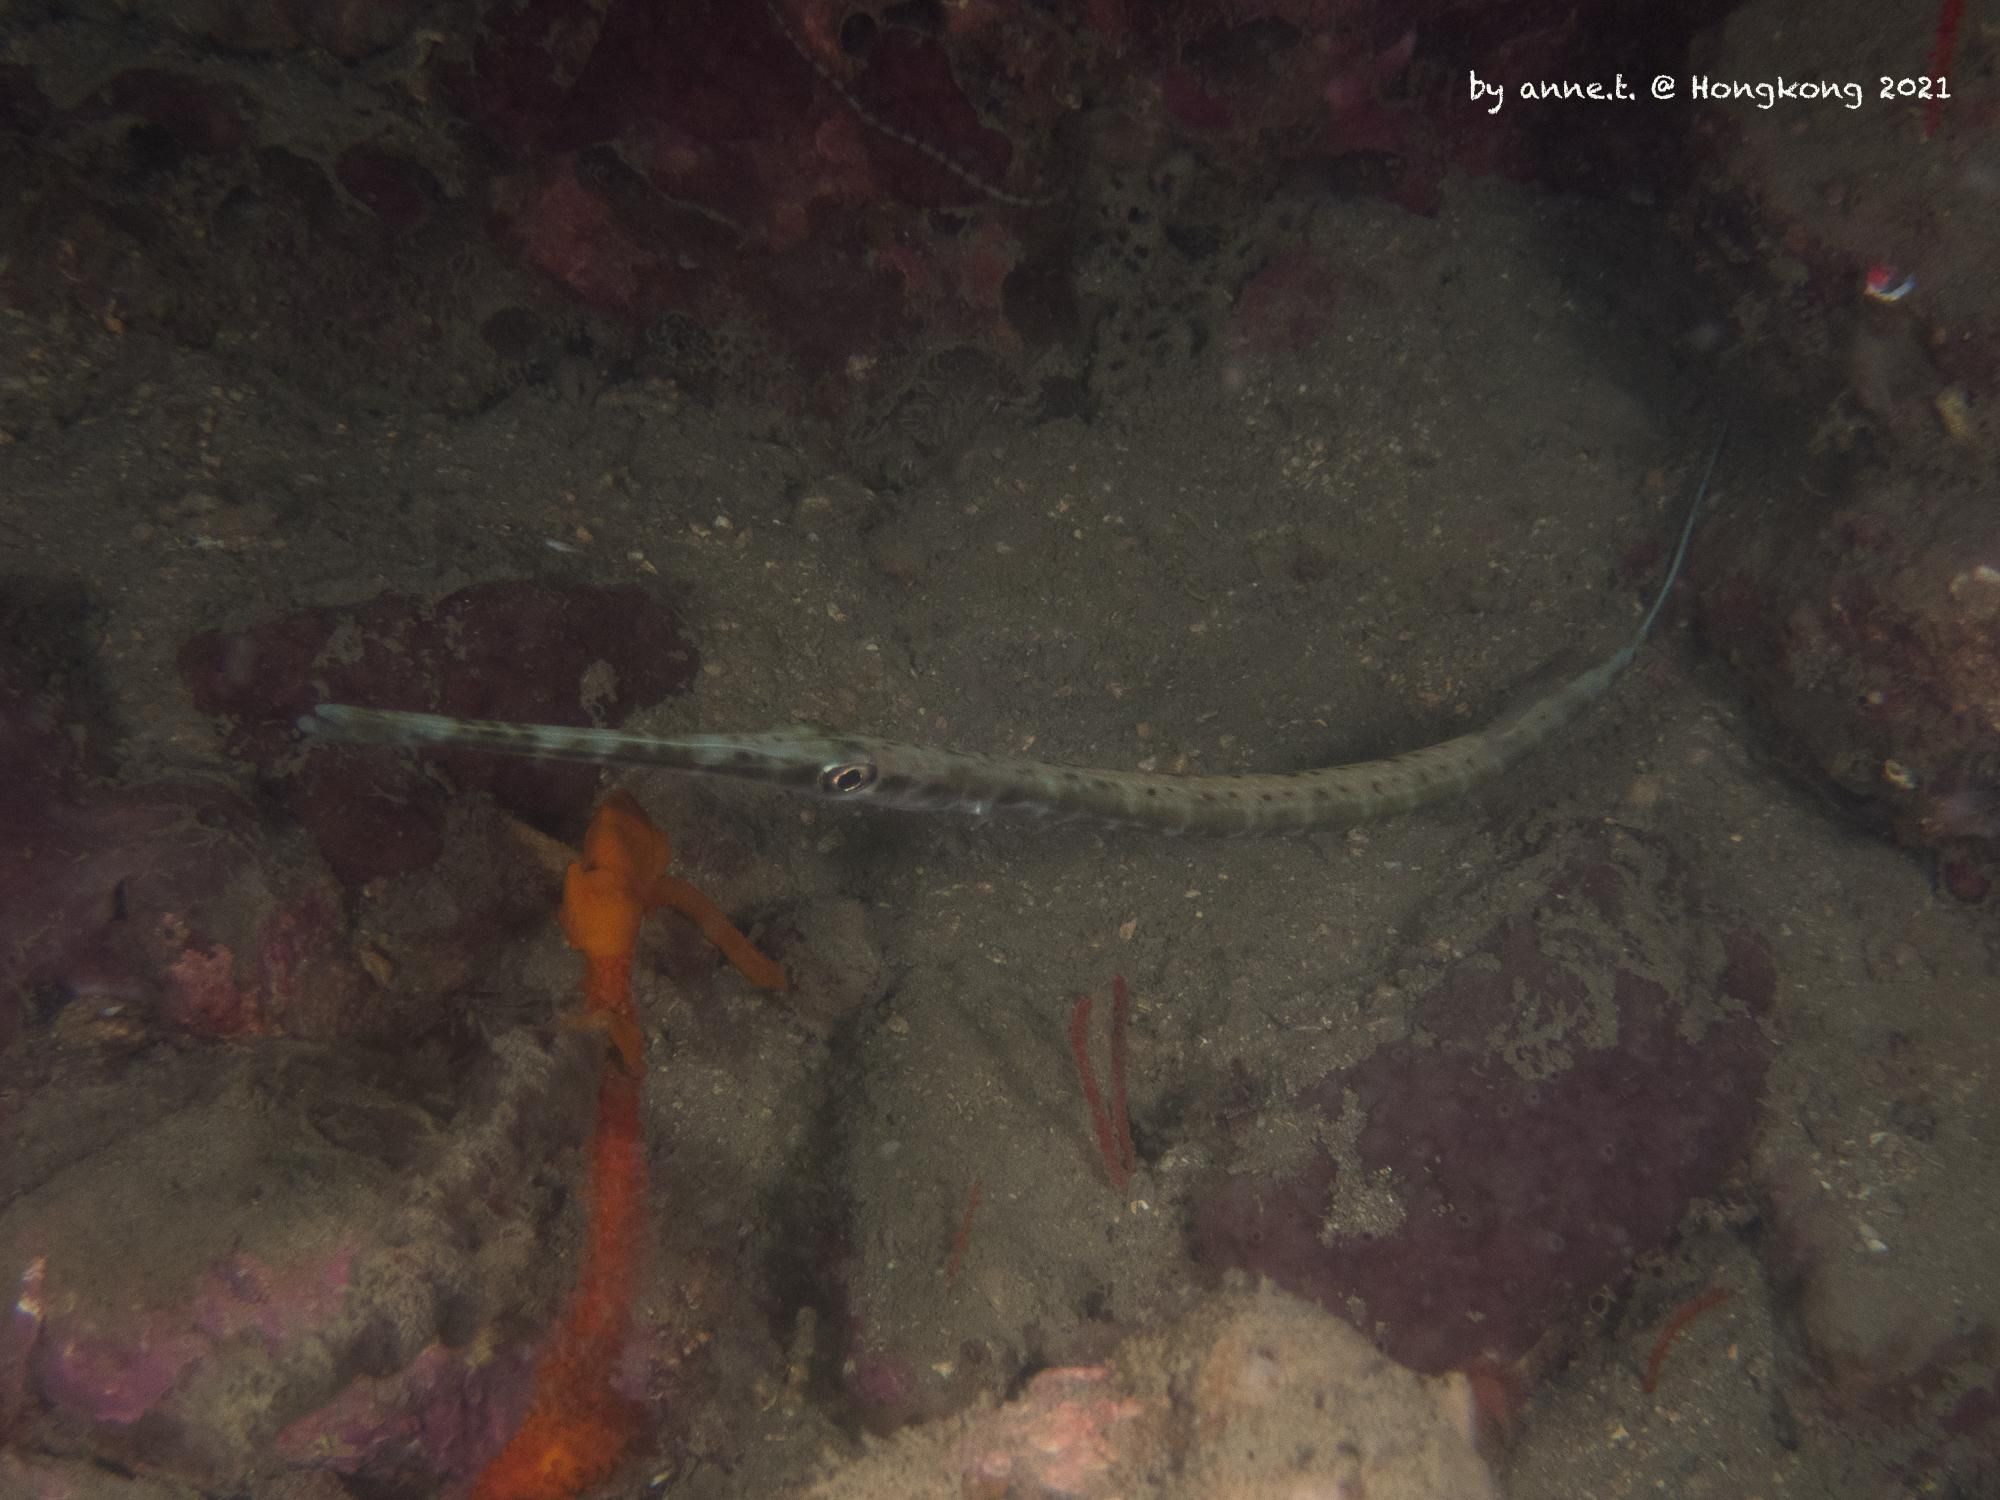Fistularia commersonii: (286, 422, 1733, 847)
